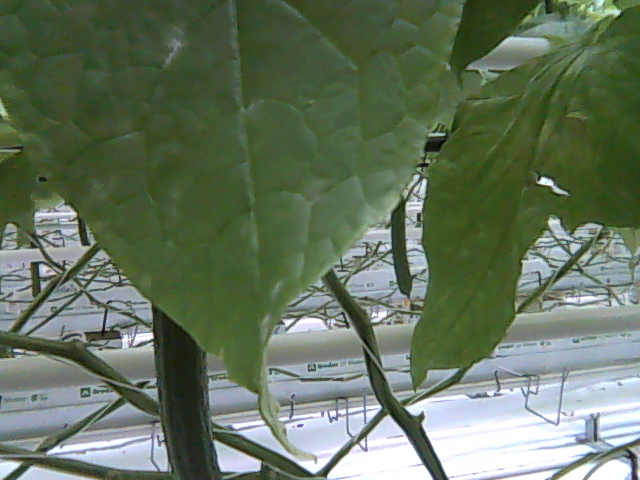concombre: (152, 302, 228, 480)
